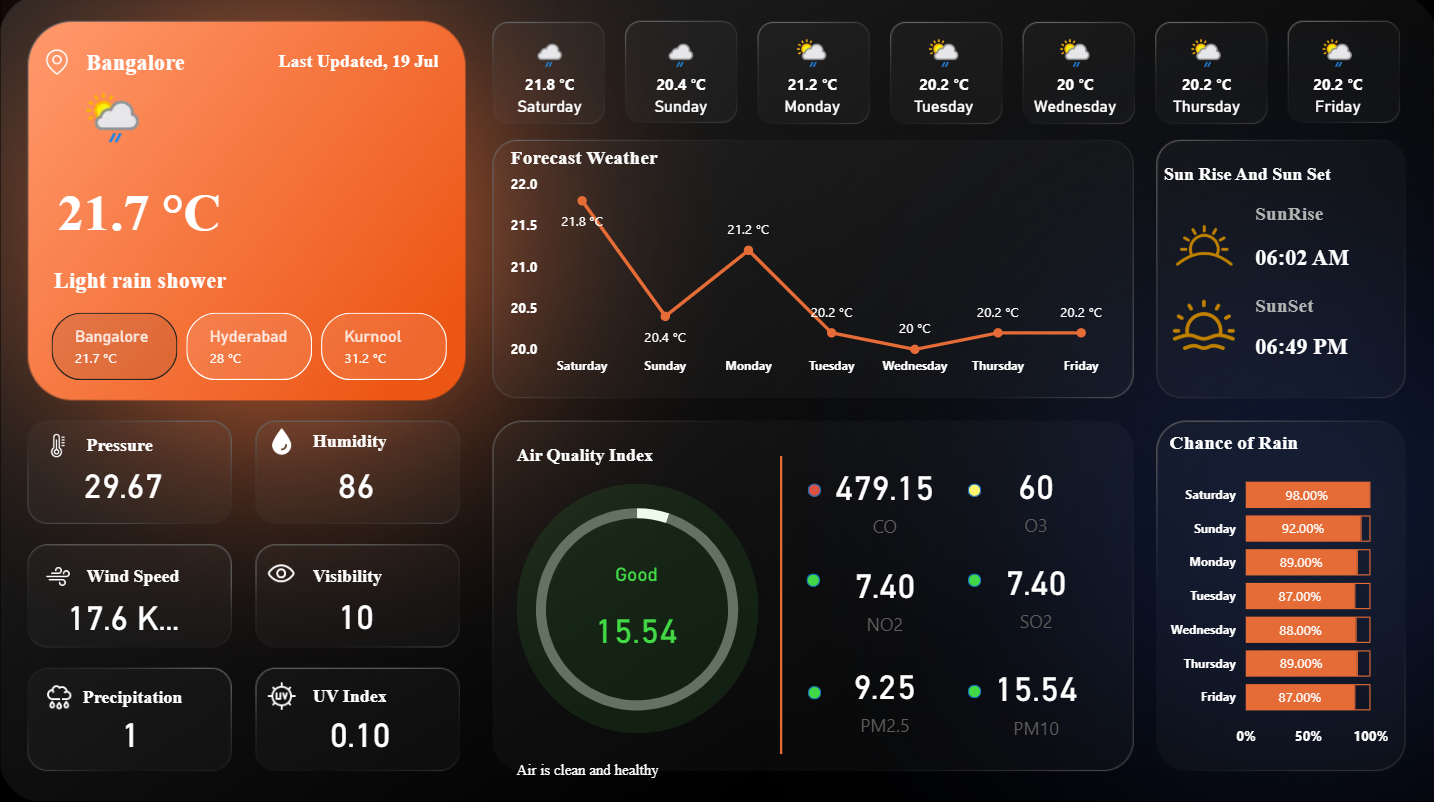

This screenshot's page, from the dashboard's own definition file:
{"tool":"powerbi","page":{"name":"Page 1","canvas":[1280,720],"ordinal":0},"visuals":[{"type":"advancedSlicerVisual","fields":{"Values":["Location.location.name"]},"box":[36.2,276.9,368.7,71],"z":0},{"type":"shape","box":[52.9,147.5,265.7,91.8],"z":1000},{"type":"shape","box":[48.7,229.6,368.7,47.3],"z":2000},{"type":"shape","box":[77.9,36.2,107.1,47.3],"z":3000},{"type":"shape","box":[221.2,34.8,169.7,47.3],"z":4000},{"type":"image","box":[36.2,41.7,32,34.8],"z":5000},{"type":"cardVisual","fields":{"Data":["Min(Current_Data.current.condition.icon)"]},"box":[45.9,59.8,109.9,97.4],"z":6000},{"type":"image","box":[233.7,379.8,36.2,34.8],"z":7000},{"type":"image","box":[36.2,603.8,36.2,43.1],"z":8000},{"type":"image","box":[33.4,500.9,39,32],"z":9000},{"type":"image","box":[233.7,602.4,36.2,43.1],"z":10000},{"type":"image","box":[229.6,495.3,44.5,37.6],"z":11000},{"type":"image","box":[30.6,385.4,44.5,30.6],"z":12000},{"type":"shape","box":[77.9,388.2,77.9,23.7],"z":13000},{"type":"shape","box":[75.1,613.6,91.8,22.3],"z":14000},{"type":"shape","box":[77.9,505,93.2,23.7],"z":15000},{"type":"shape","box":[279.7,612.2,77.9,23.7],"z":16000},{"type":"shape","box":[279.7,505,77.9,23.7],"z":17000},{"type":"shape","box":[279.7,385.4,77.9,23.7],"z":18000},{"type":"card","fields":{"Values":["Sum(Current_Data.current.humidity)"]},"box":[279.7,397.9,77.9,75.1],"z":19000},{"type":"card","fields":{"Values":["Sum(Current_Data.current.pressure_in)"]},"box":[36.2,397.9,150.3,75.1],"z":20000},{"type":"card","fields":{"Values":["_Measures.Wind_Speed"]},"box":[54.9,514.4,112.3,75.3],"z":21000},{"type":"card","fields":{"Values":["Sum(Current_Data.current.vis_km)"]},"box":[289.6,532.6,57.6,38.9],"z":22000},{"type":"card","fields":{"Values":["Sum(Current_Data.current.precip_mm)"]},"box":[87.2,635.3,60.7,42],"z":23000},{"type":"card","fields":{"Values":["Sum(Current_Data.current.uv)"]},"box":[286.5,624.4,71.6,63.8],"z":24000},{"type":"advancedSlicerVisual","fields":{"Values":["Forecast_Data_ByDate.days"]},"box":[431.3,27.8,826.4,96],"z":25000},{"type":"lineChart","title":"Forecast Weather ","fields":{"Category":["Forecast_Data_ByDate.days"],"Y":["Sum(Forecast_Data_ByDate.forecast.forecastday.day.avgtemp_c)"]},"box":[451.2,135.1,547.7,212.3],"z":26000},{"type":"shape","box":[1037.5,139.9,162.9,36.2],"z":27000},{"type":"shape","box":[1118.4,212.3,115.8,41],"z":28000},{"type":"shape","box":[1118.4,292,107.4,41],"z":29000},{"type":"shape","box":[1118.4,176.1,96.5,36.2],"z":30000},{"type":"shape","box":[1118.4,260.6,63.9,31.4],"z":31000},{"type":"image","box":[1029.1,260.6,89.3,65.1],"z":32000},{"type":"image","box":[1029.1,183.4,89.3,77.2],"z":33000},{"type":"hundredPercentStackedBarChart","title":"Chance of Rain","fields":{"Category":["Forecast_Data_ByDate.days"],"Y":["Sum(Forecast_Data_ByDate.forecast.forecastday.day.daily_chance_of_rain)","_Measures.Left_Value_Rain"]},"box":[1037.5,388.5,205.1,289.5],"z":34000},{"type":"shape","box":[460.9,390.9,162.9,36.2],"z":35000},{"type":"card","fields":{"Values":["Sum(Current_Data.current.air_quality.o3)"]},"box":[868.6,408.2,111,75.1],"z":36000},{"type":"card","fields":{"Values":["Sum(Current_Data.current.air_quality.pm10)"]},"box":[868.6,589.4,111,75.1],"z":37000},{"type":"card","fields":{"Values":["Sum(Current_Data.current.air_quality.pm2_5)"]},"box":[733.1,586.1,111,75.1],"z":38000},{"type":"card","fields":{"Values":["Sum(Current_Data.current.air_quality.so2)"]},"box":[868.6,494.7,111,75.1],"z":39000},{"type":"card","fields":{"Values":["Sum(Current_Data.current.air_quality.no2)"]},"box":[733.1,496.3,111,75.1],"z":40000},{"type":"card","fields":{"Values":["Sum(Current_Data.current.air_quality.co)"]},"box":[733.1,409.8,111,75.1],"z":41000},{"type":"shape","box":[720.4,433.8,11.9,11.9],"z":42000},{"type":"shape","box":[862.6,612.9,12.1,12.1],"z":43000},{"type":"shape","box":[862.6,513.9,12.1,12.1],"z":44000},{"type":"shape","box":[862.6,434.3,12.1,12.1],"z":45000},{"type":"shape","box":[719,513.9,12.1,12.1],"z":46000},{"type":"shape","box":[720.2,614.1,12.1,12.1],"z":47000},{"type":"shape","box":[614.1,410.2,164.1,265.4],"z":48000},{"type":"card","fields":{"Values":["Sum(Current_Data.current.air_quality.pm10)"]},"box":[512,505,111.3,97.4],"z":49000},{"type":"donutChart","fields":{"Y":["Sum(Current_Data.current.air_quality.pm10)","_Measures.Left_Value_PM10"]},"box":[450.8,427.1,235.1,237.9],"z":50000},{"type":"shape","box":[460.5,434.1,215.7,222.6],"z":51000},{"type":"shape","box":[460.9,670.8,195.4,36.2],"z":52000}]}

Visuals, with their boxes in screenshot pixels (x1, y1, x2, y2), scaled from the page's 1280x720 canvas onto the 1434x802 screenshot:
advancedSlicerVisual - Location.location.name: [41, 308, 454, 388]
shape: [59, 164, 357, 267]
shape: [55, 256, 468, 308]
shape: [87, 40, 207, 93]
shape: [248, 39, 438, 91]
image: [41, 46, 76, 85]
cardVisual - Min(Current_Data.current.condition.icon): [51, 67, 175, 175]
image: [262, 423, 302, 462]
image: [41, 673, 81, 721]
image: [37, 558, 81, 594]
image: [262, 671, 302, 719]
image: [257, 552, 307, 594]
image: [34, 429, 84, 463]
shape: [87, 432, 175, 459]
shape: [84, 683, 187, 708]
shape: [87, 563, 192, 589]
shape: [313, 682, 401, 708]
shape: [313, 563, 401, 589]
shape: [313, 429, 401, 456]
card - Sum(Current_Data.current.humidity): [313, 443, 401, 527]
card - Sum(Current_Data.current.pressure_in): [41, 443, 209, 527]
card - _Measures.Wind_Speed: [62, 573, 187, 657]
card - Sum(Current_Data.current.vis_km): [324, 593, 389, 637]
card - Sum(Current_Data.current.precip_mm): [98, 708, 166, 754]
card - Sum(Current_Data.current.uv): [321, 696, 401, 767]
advancedSlicerVisual - Forecast_Data_ByDate.days: [483, 31, 1409, 138]
"Forecast Weather " lineChart: [505, 150, 1119, 387]
shape: [1162, 156, 1345, 196]
shape: [1253, 236, 1383, 282]
shape: [1253, 325, 1373, 371]
shape: [1253, 196, 1361, 236]
shape: [1253, 290, 1325, 325]
image: [1153, 290, 1253, 363]
image: [1153, 204, 1253, 290]
"Chance of Rain" hundredPercentStackedBarChart: [1162, 433, 1392, 755]
shape: [516, 435, 699, 476]
card - Sum(Current_Data.current.air_quality.o3): [973, 455, 1097, 538]
card - Sum(Current_Data.current.air_quality.pm10): [973, 657, 1097, 740]
card - Sum(Current_Data.current.air_quality.pm2_5): [821, 653, 946, 737]
card - Sum(Current_Data.current.air_quality.so2): [973, 551, 1097, 635]
card - Sum(Current_Data.current.air_quality.no2): [821, 553, 946, 636]
card - Sum(Current_Data.current.air_quality.co): [821, 456, 946, 540]
shape: [807, 483, 820, 496]
shape: [966, 683, 980, 696]
shape: [966, 572, 980, 586]
shape: [966, 484, 980, 497]
shape: [806, 572, 819, 586]
shape: [807, 684, 820, 698]
shape: [688, 457, 872, 753]
card - Sum(Current_Data.current.air_quality.pm10): [574, 563, 698, 671]
donutChart - Sum(Current_Data.current.air_quality.pm10) x _Measures.Left_Value_PM10: [505, 476, 768, 741]
shape: [516, 484, 758, 731]
shape: [516, 747, 735, 788]
